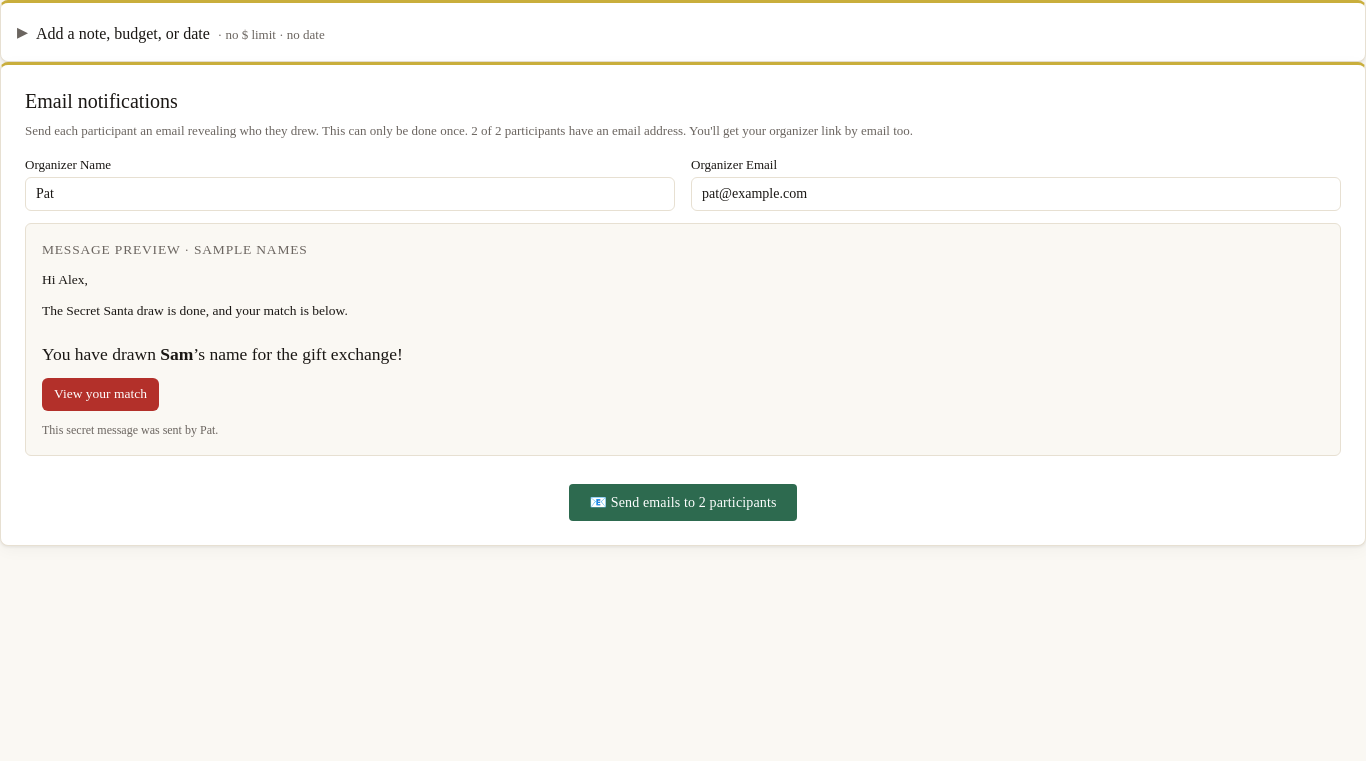
Scenario: details card and message preview › shows a $0 budget as "No limit set" in the preview
Click the button "▸ Add a note, budget, or date · no $ limit · no date" at (123, 34), box [25,19,1341,45]
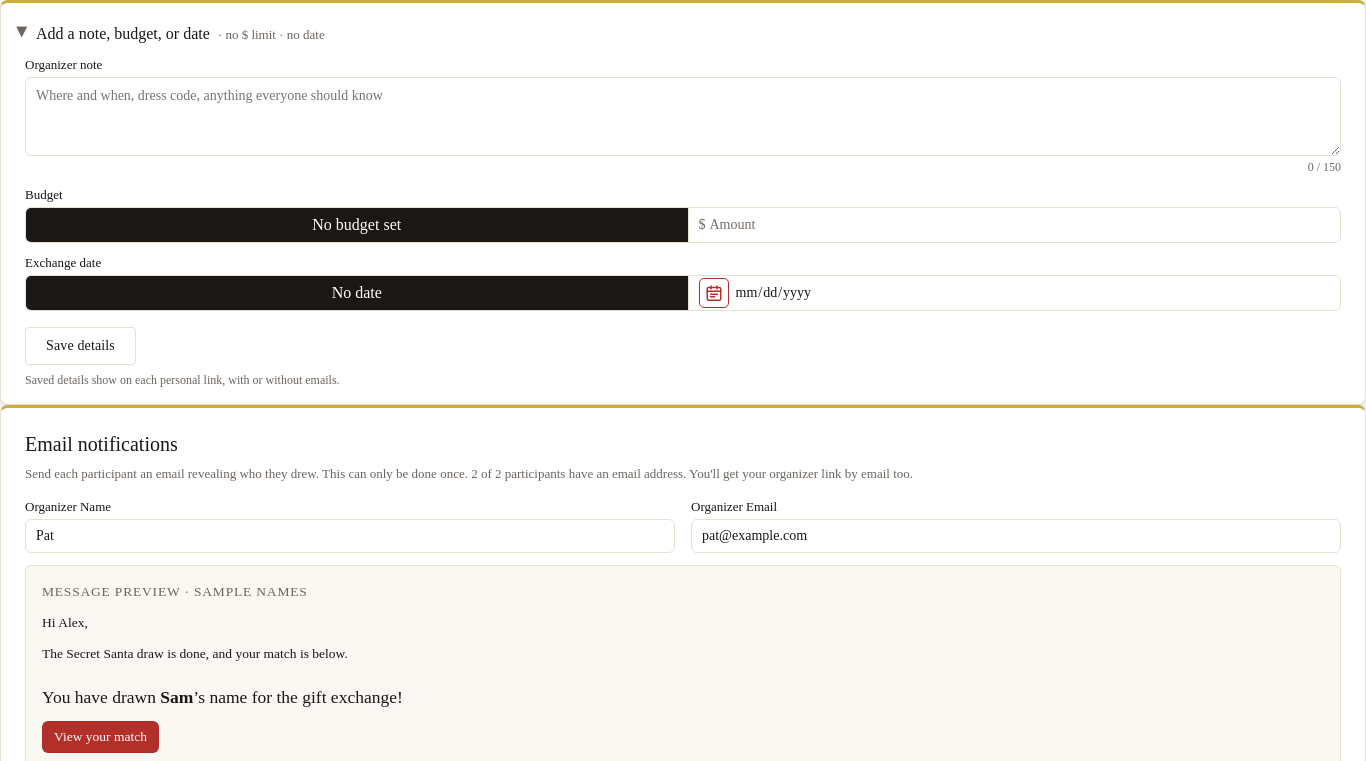
Type "0" into the field named "Budget in dollars" at (1023, 225), box [706,209,1340,241]
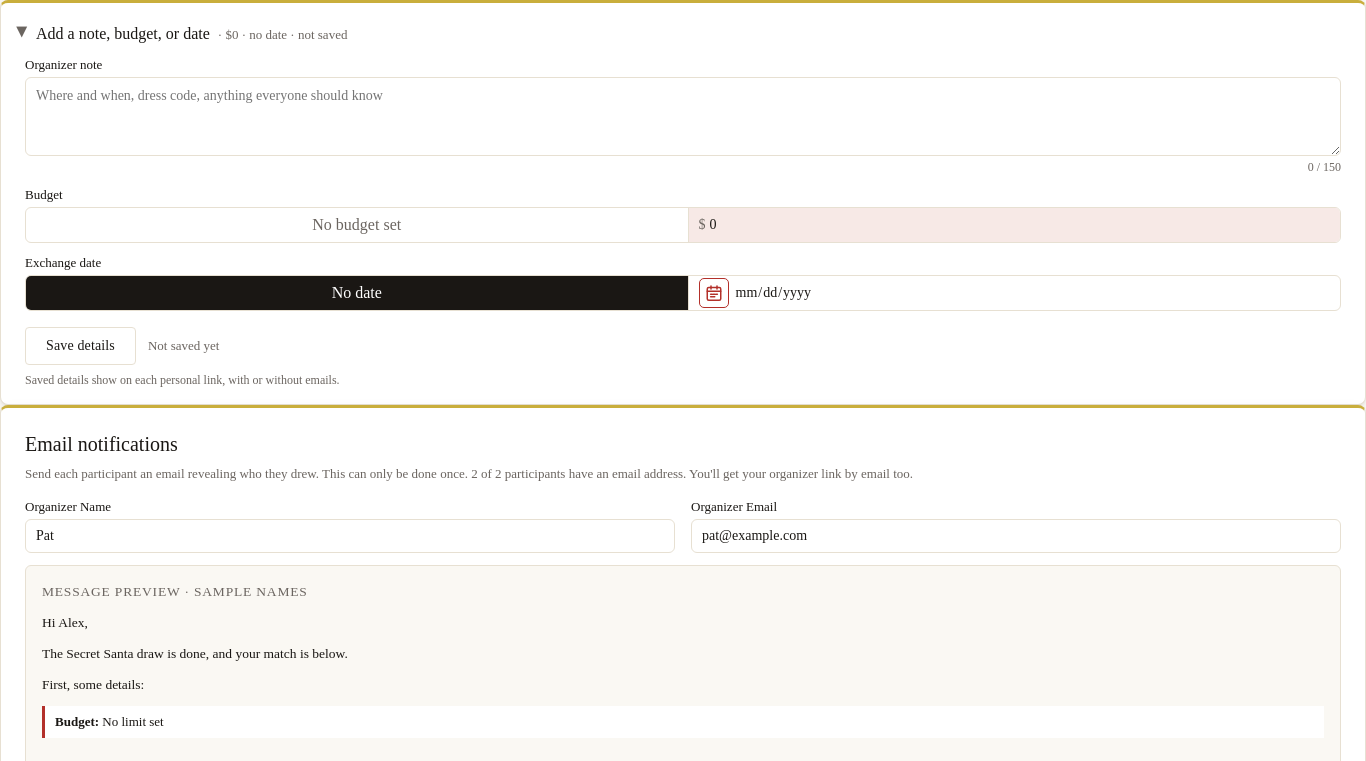
Expected: the text "No limit set" is shown, [102,714,164,729]
Expected: the button "▸ Add a note, budget, or date · $0 · no date · not saved" is shown, [25,19,1341,45]
